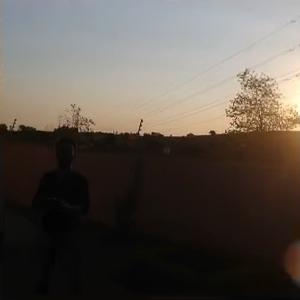follow: (28, 127, 100, 299)
